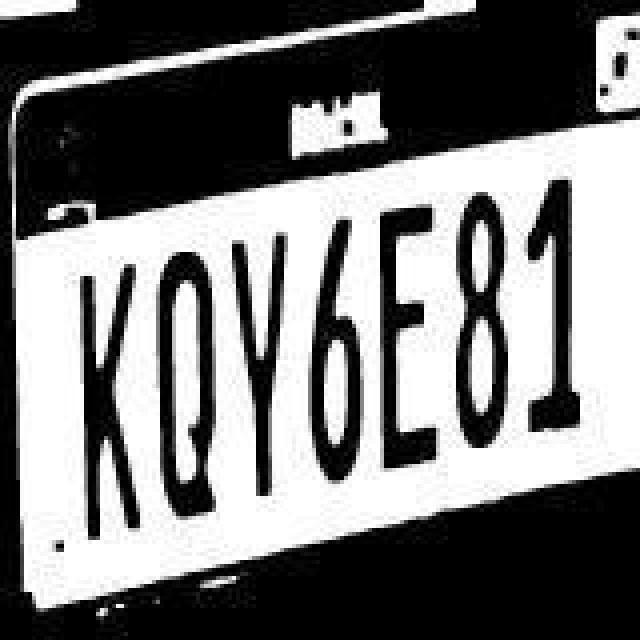1: (520, 174, 592, 442)
6: (296, 216, 360, 496)
8: (448, 182, 512, 458)
E: (370, 200, 438, 480)
K: (80, 260, 144, 540)
Q: (152, 238, 216, 530)
Y: (224, 230, 288, 514)
